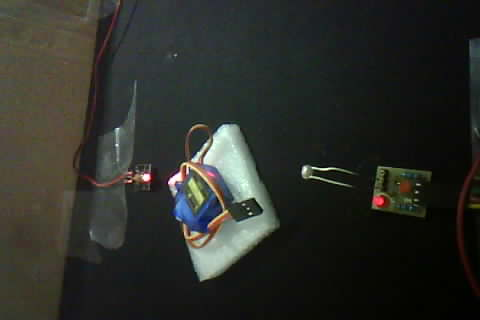motor: (160, 123, 271, 256)
